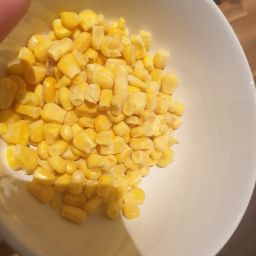Corn Kernel: (68, 42, 178, 239), (34, 99, 179, 220), (44, 12, 174, 118), (12, 53, 86, 207), (2, 118, 103, 230), (30, 31, 160, 118)
